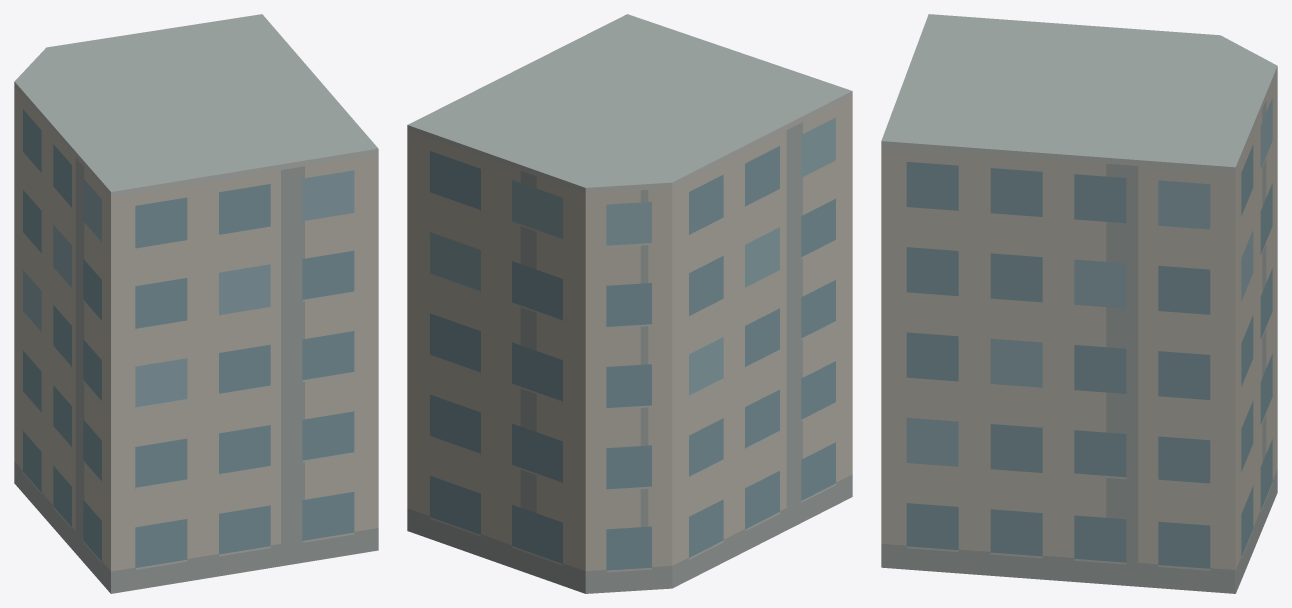
File: survey-upis-32907250.glb
The picture shows the model from 3 angles, left to right: view 1: azimuth 30°, elevation 25°; view 2: azimuth 150°, elevation 25°; view 3: azimuth 270°, elevation 25°; orthographic projection. The views are drawn at different scales.
Parts seen in each view (by area): view 1: survey-upis-32907250.tmp; view 2: survey-upis-32907250.tmp; view 3: survey-upis-32907250.tmp.
Part boxes in pixels (box(x1,y1,x2,y2)): survey-upis-32907250.tmp: box(14, 14, 378, 593); survey-upis-32907250.tmp: box(407, 14, 852, 593); survey-upis-32907250.tmp: box(881, 14, 1277, 593).
Bounding box in the file's own units: 13.19 × 17.1 × 14.41.
